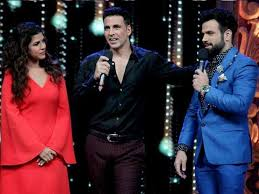Bad: (77, 7, 259, 194), (1, 6, 175, 194)
